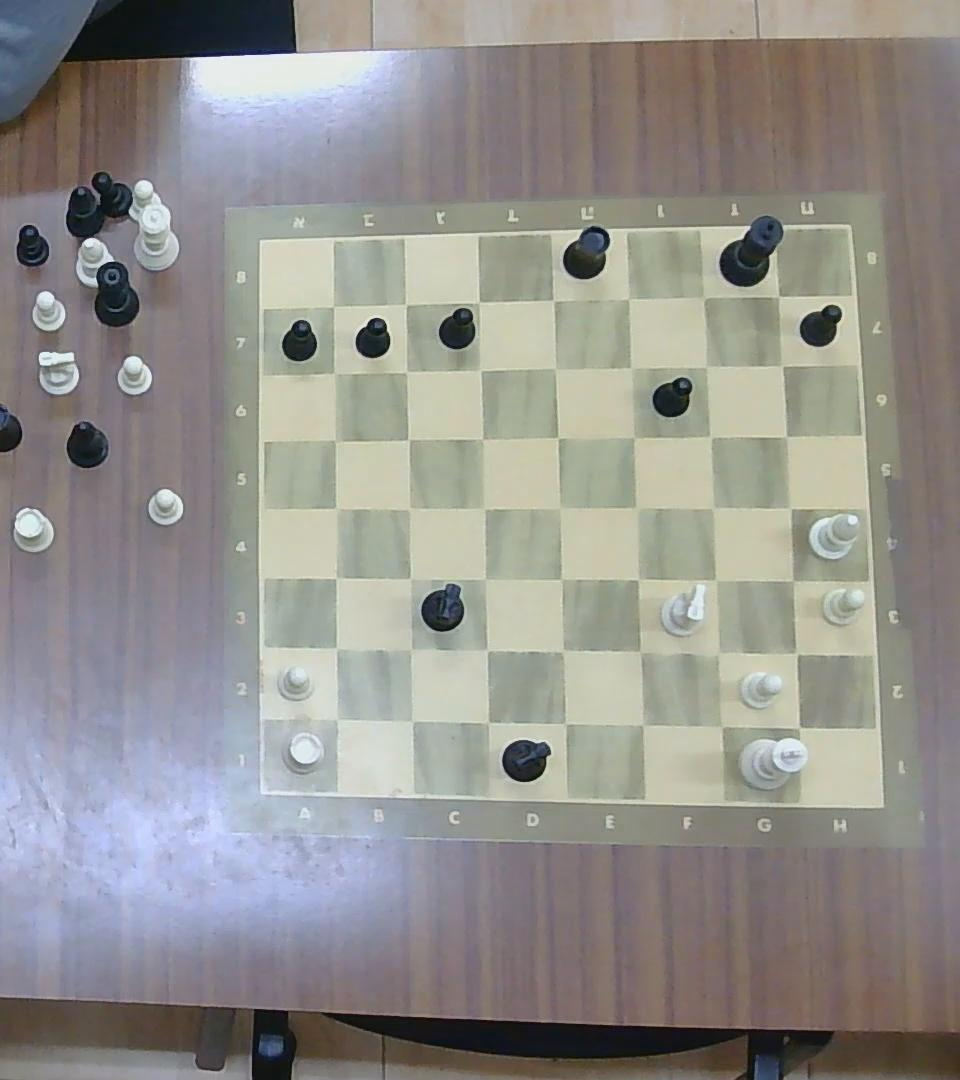xcorner: (703, 708, 738, 742), (781, 710, 815, 743), (701, 636, 734, 669), (780, 637, 812, 669), (626, 707, 657, 739), (471, 706, 502, 737), (320, 703, 351, 734), (622, 563, 652, 594), (548, 707, 579, 737), (548, 634, 578, 665), (396, 705, 427, 735), (625, 636, 655, 666), (700, 565, 730, 595), (547, 563, 576, 594), (698, 493, 728, 522), (776, 493, 806, 522), (776, 566, 807, 594), (472, 635, 501, 664), (622, 493, 651, 522), (321, 562, 350, 591), (321, 633, 350, 662), (619, 422, 648, 451), (471, 493, 499, 522), (545, 422, 573, 451), (395, 635, 424, 663), (617, 352, 645, 380), (546, 493, 573, 522), (471, 565, 500, 592), (468, 424, 495, 452), (395, 425, 423, 452), (322, 494, 350, 521), (321, 425, 349, 452), (615, 285, 643, 312), (396, 494, 423, 521), (396, 563, 423, 590), (542, 354, 569, 381), (693, 352, 720, 379), (467, 354, 493, 381), (321, 360, 349, 385), (393, 356, 419, 382), (697, 422, 723, 448), (540, 286, 566, 311), (393, 291, 418, 316), (466, 289, 491, 314), (773, 423, 799, 447), (767, 283, 791, 307), (322, 293, 345, 317), (693, 285, 717, 308), (772, 353, 794, 375)
